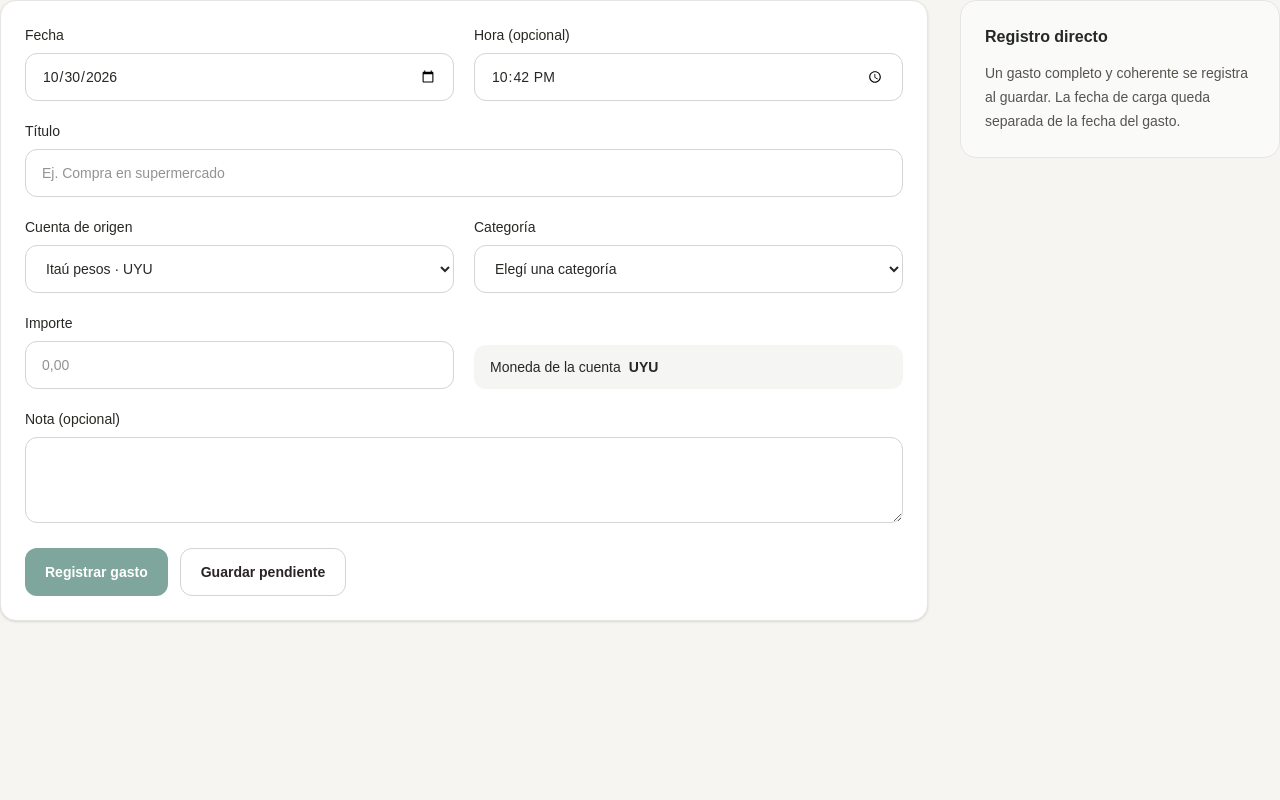
it: formulario de gasto manual › muestra una validación del servidor sin perder el formulario
Type "2026-10-18" into the date field labelled "Fecha" at (240, 77), box [25, 53, 454, 101]
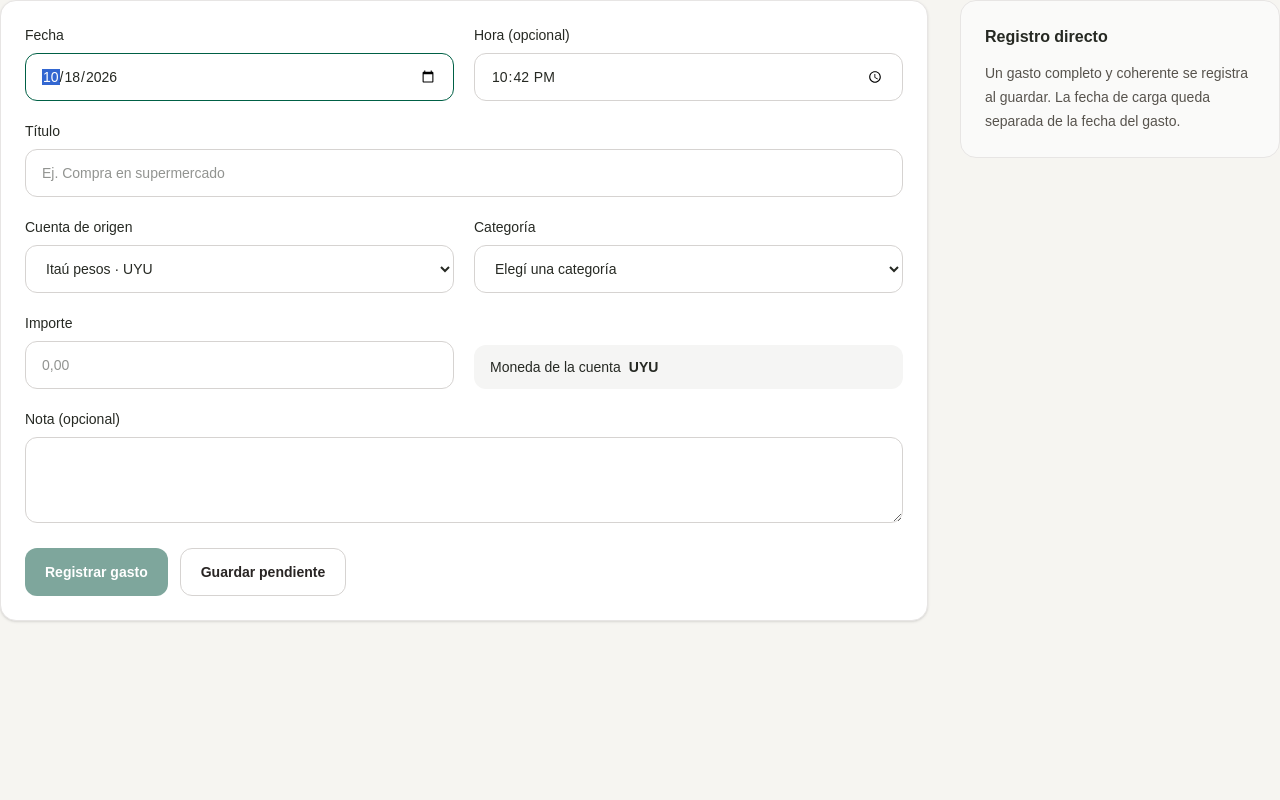
Type "Compra sintética" into the field labelled "Título" at (464, 173), box [25, 149, 903, 197]
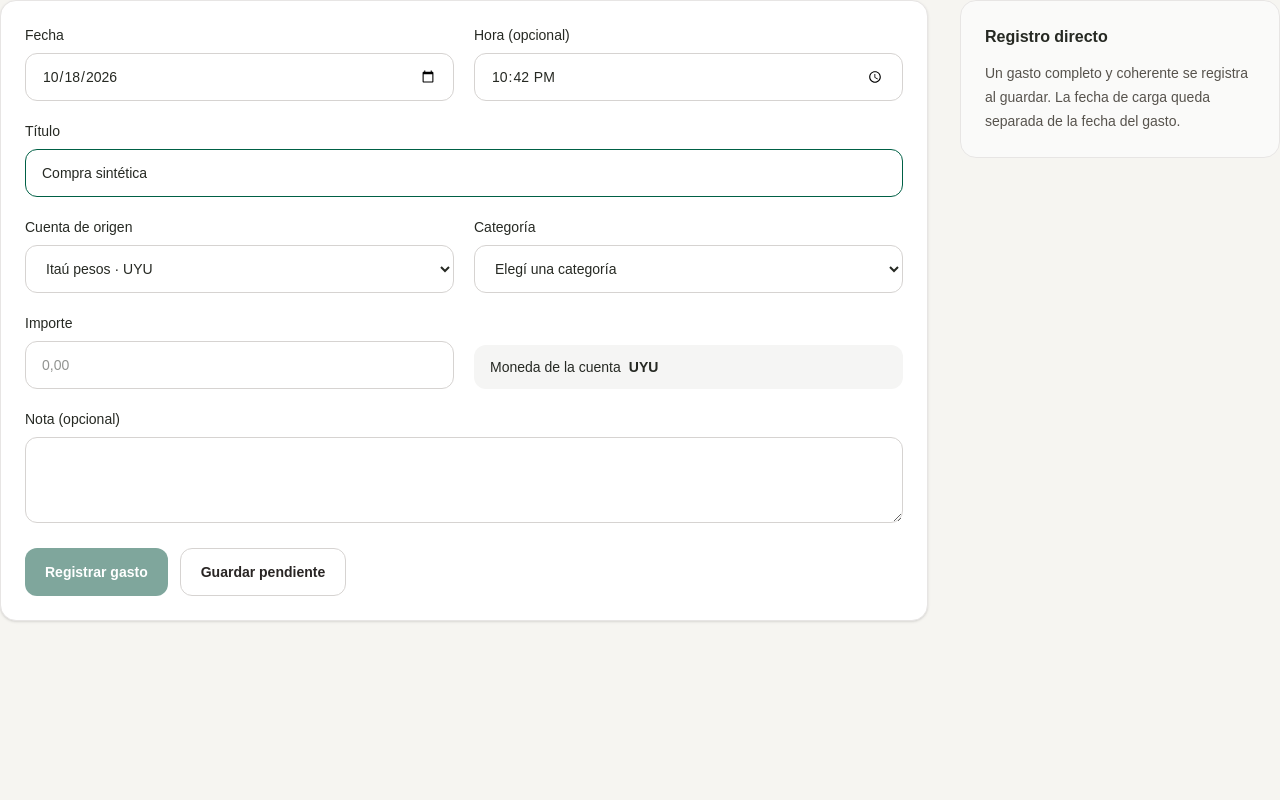
Type "10" into the field labelled "Importe" at (240, 365), box [25, 341, 454, 389]
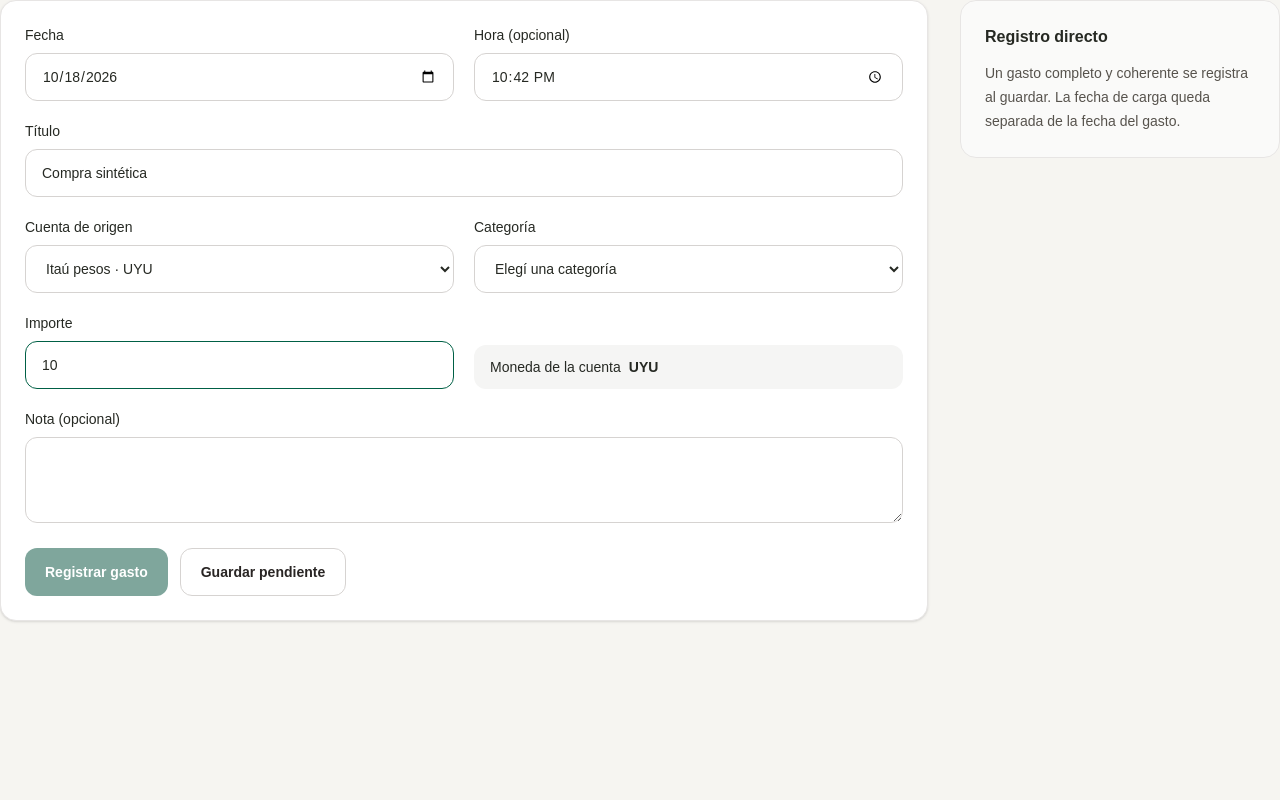
Select "Alimentación" in the dropdown labelled "Categoría" at (688, 269), box [474, 245, 903, 293]
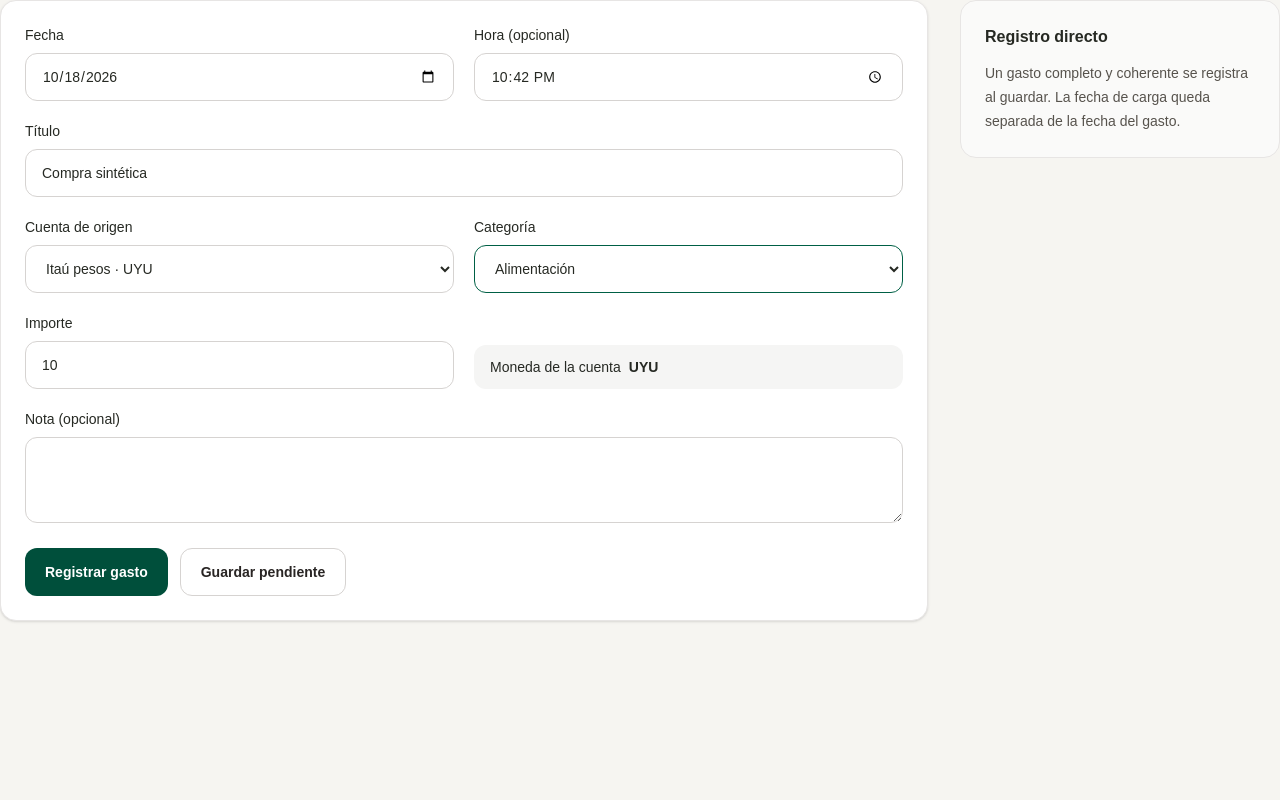
Click the button "Registrar gasto" at (96, 572), box [25, 548, 168, 596]
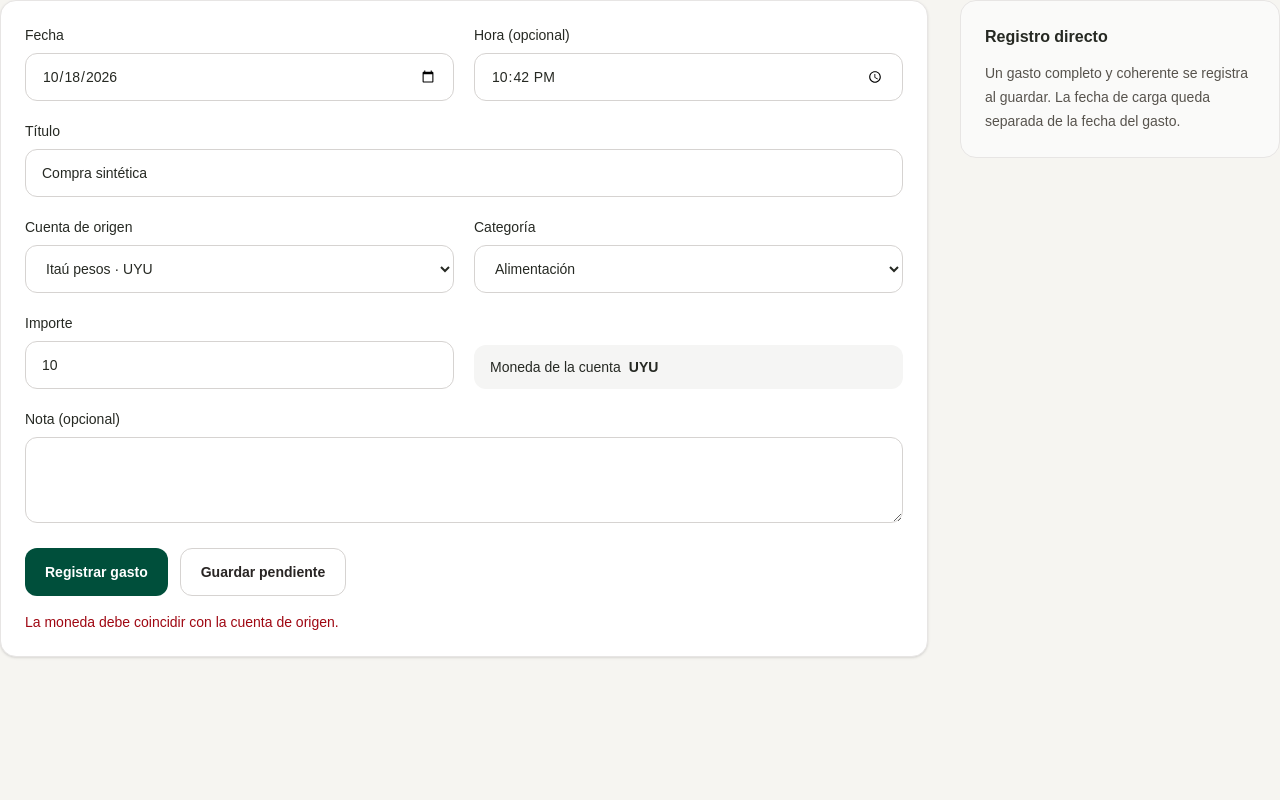
expect the message shows "La moneda debe coincidir con la cuenta": met, box [25, 614, 339, 630]
